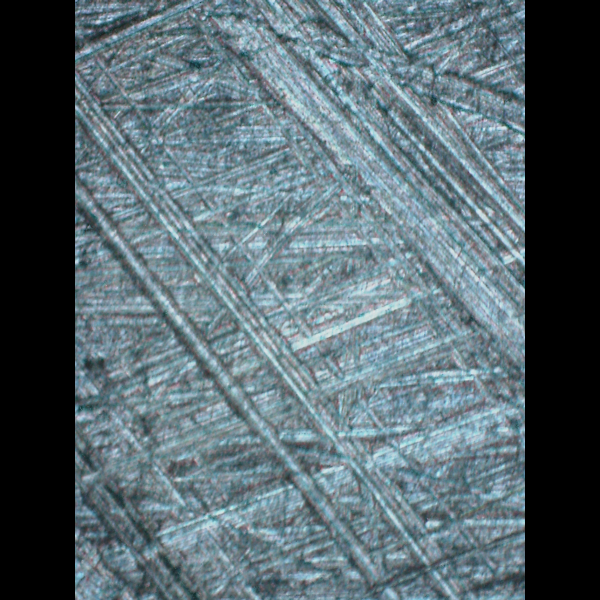d: (74, 2, 523, 599)
